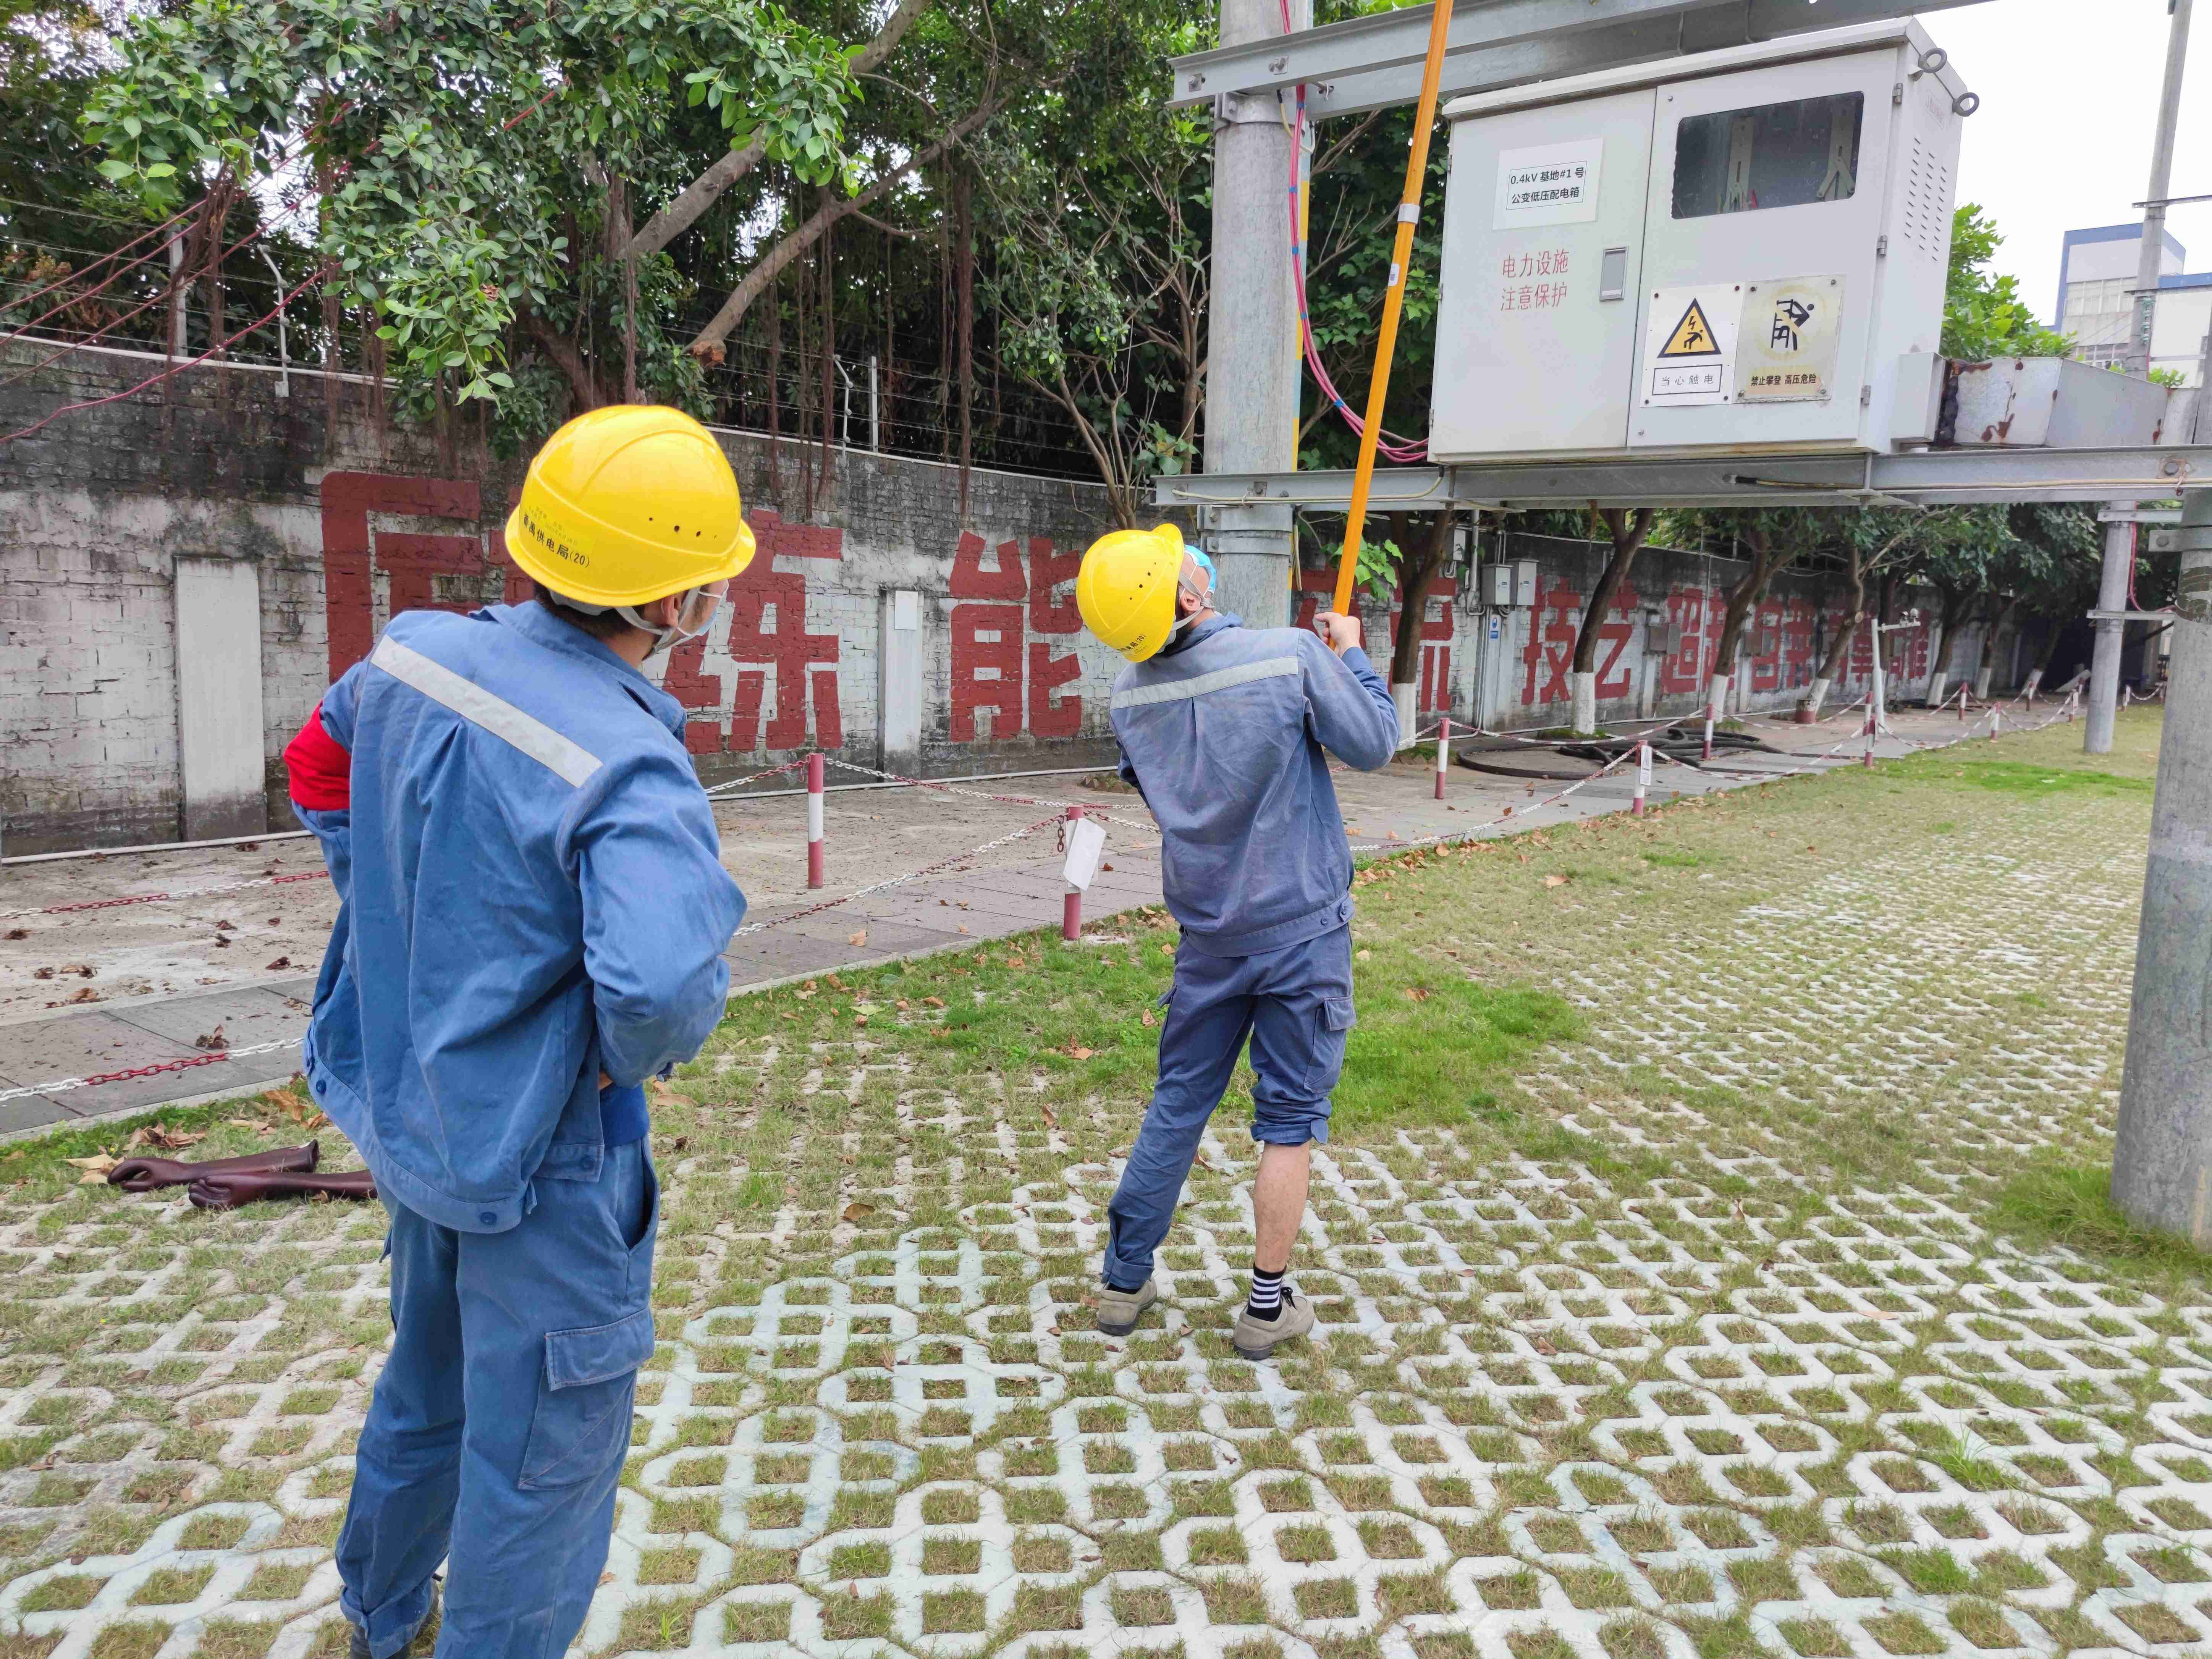downsuit: (357, 1237, 662, 1631), (1104, 965, 1355, 1281)
upsuit: (280, 598, 749, 1201), (1103, 620, 1400, 938)
wrongbottom: (1247, 1096, 1318, 1284)
